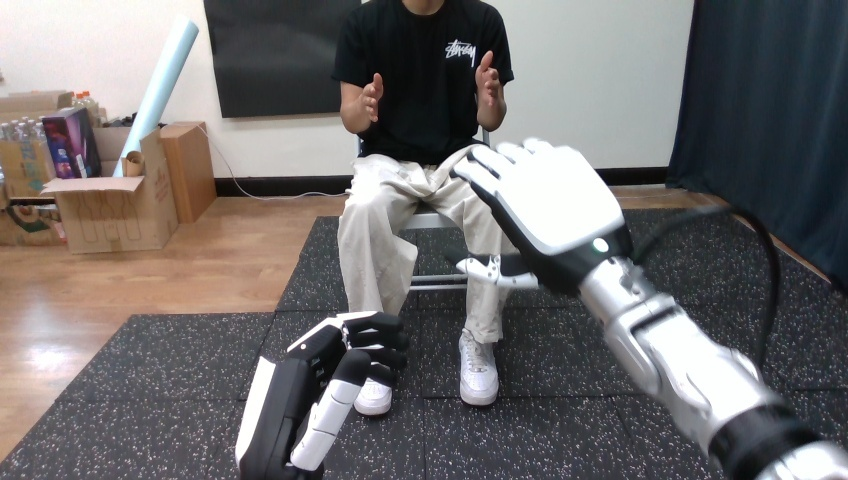left robot hand: (454, 139, 847, 478), (235, 311, 408, 479)
